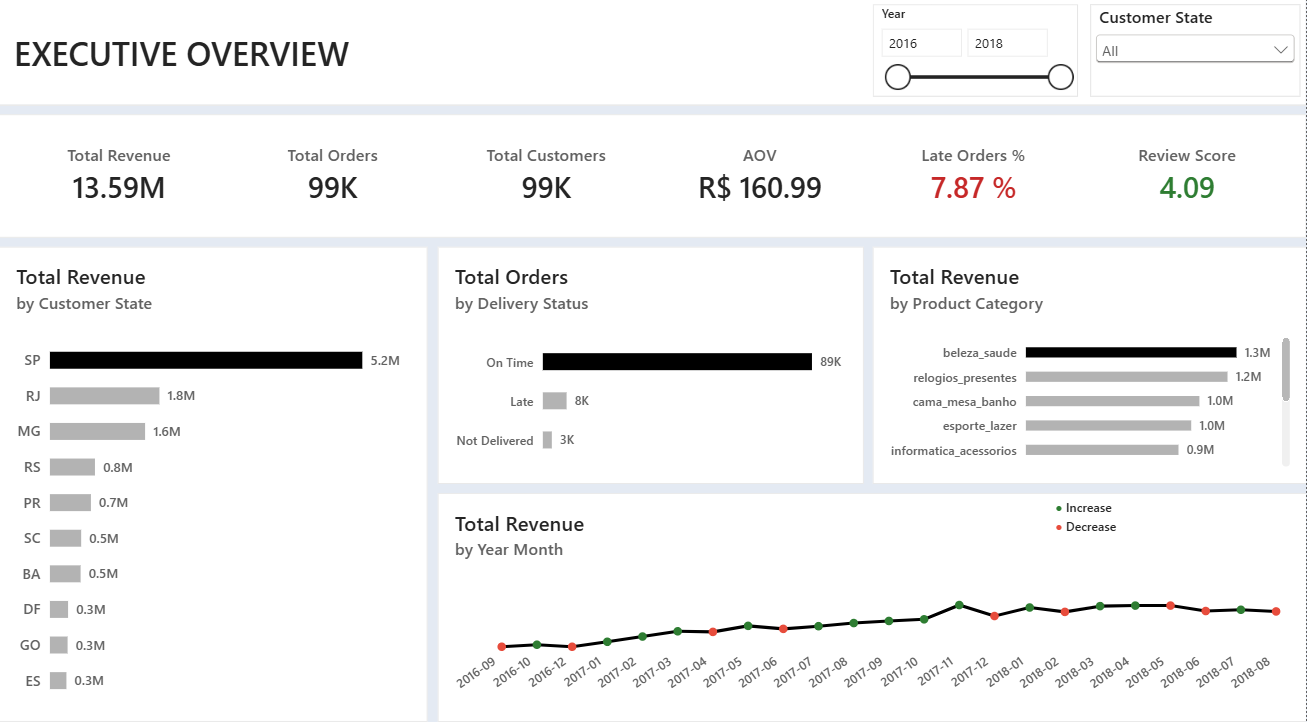

Layout of this report page (visuals, bound fields, positions):
{"tool":"powerbi","page":{"name":"Page 1","canvas":[1280,720],"ordinal":0},"visuals":[{"type":"shape","box":[0,0,1280.3,105.2],"z":0},{"type":"cardVisual","fields":{"Data":["KPIS.Total Revenue","KPIS.Total Orders","KPIS.Total Customers","Metrics.Average Order Value","KPIS.Late Orders %","KPIS.Average Review Score"]},"box":[0,113.7,1280.3,121.1],"z":1000},{"type":"lineChart","fields":{"Category":["DimDate.Year Month"],"Y":["KPIS.Total Revenue"]},"box":[429.2,484.2,851.1,223.8],"z":2000},{"type":"clusteredBarChart","title":"Total Revenue ","fields":{"Y":["KPIS.Total Revenue"],"Category":["DimProduct.product_category_name"]},"box":[854.8,243.3,425.5,232.3],"z":3000},{"type":"clusteredBarChart","title":"Total Revenue ","fields":{"Category":["DimCustomer.customer_state"],"Y":["KPIS.Total Revenue"]},"box":[0,243.3,419.4,464.7],"z":4000},{"type":"barChart","title":"Total Orders ","fields":{"Category":["FactOrders.delivery_status"],"Y":["KPIS.Total Orders"]},"box":[429.2,243.3,417,232.3],"z":5000},{"type":"slicer","fields":{"Values":["DimDate.Year"]},"box":[854.8,6.1,200.5,90.5],"z":6000},{"type":"slicer","fields":{"Values":["DimCustomer.customer_state"]},"box":[1067.5,6.1,205.4,90.5],"z":7000},{"type":"textbox","box":[14.7,31.2,359.5,51.4],"z":8000},{"type":"textbox","box":[1033.3,487.9,247,57.5],"z":9000}]}

Visuals, with their boxes in screenshot pixels (x1, y1, x2, y2), scaled from the page's 1280x720 canvas onto the 1307x722 screenshot:
shape: [left=0, top=0, right=1306, bottom=105]
cardVisual - KPIS.Total Revenue x KPIS.Total Orders: [left=0, top=114, right=1306, bottom=235]
lineChart - DimDate.Year Month x KPIS.Total Revenue: [left=438, top=486, right=1306, bottom=710]
"Total Revenue " clusteredBarChart: [left=873, top=244, right=1306, bottom=477]
"Total Revenue " clusteredBarChart: [left=0, top=244, right=428, bottom=710]
"Total Orders " barChart: [left=438, top=244, right=864, bottom=477]
slicer - DimDate.Year: [left=873, top=6, right=1078, bottom=97]
slicer - DimCustomer.customer_state: [left=1090, top=6, right=1300, bottom=97]
textbox: [left=15, top=31, right=382, bottom=83]
textbox: [left=1055, top=489, right=1306, bottom=547]
